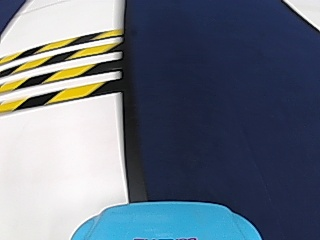bump: (6, 32, 108, 107)
